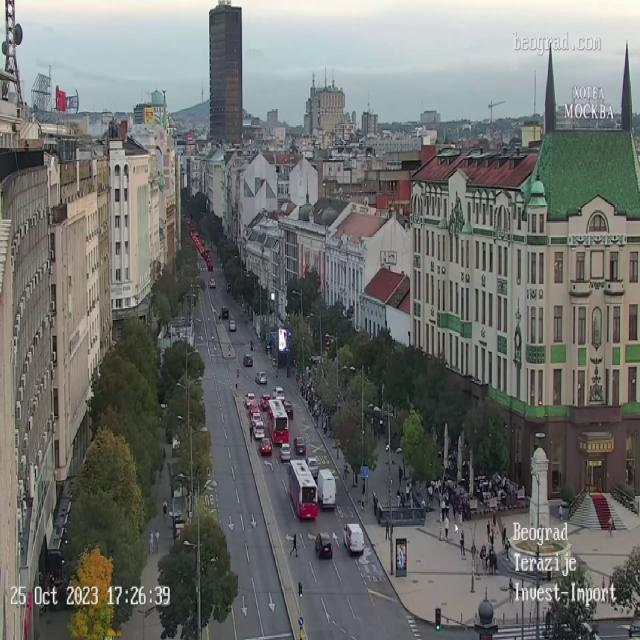bus: (287, 458, 318, 520), (263, 394, 290, 444)
car: (318, 463, 336, 505), (346, 524, 366, 558), (315, 532, 333, 559), (278, 440, 293, 462), (261, 439, 271, 460), (282, 397, 292, 418), (252, 424, 265, 439), (295, 437, 306, 454), (246, 392, 256, 410), (249, 404, 260, 420), (260, 391, 270, 407), (228, 318, 238, 333), (244, 352, 252, 369), (222, 304, 230, 319), (256, 372, 266, 384), (274, 387, 283, 400)
